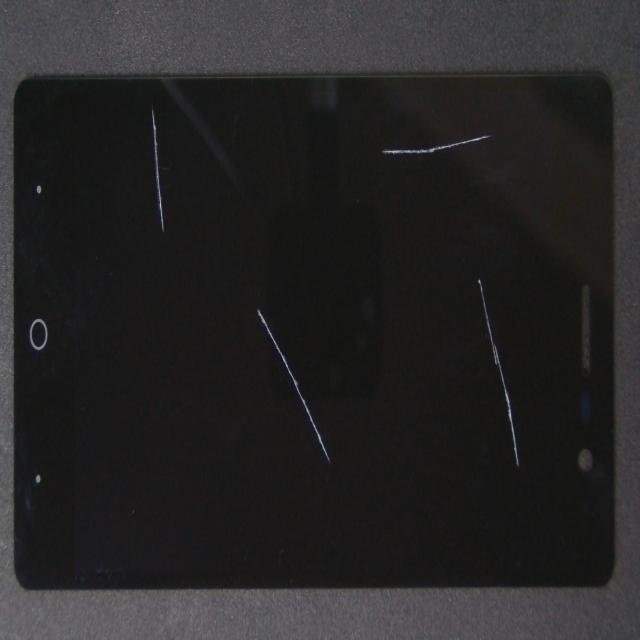scratch: (59, 0, 217, 221)
